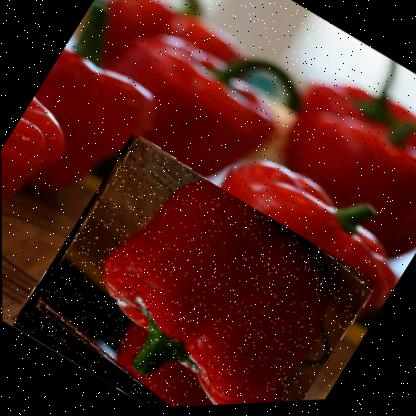capsicum: (9, 125, 376, 415)
